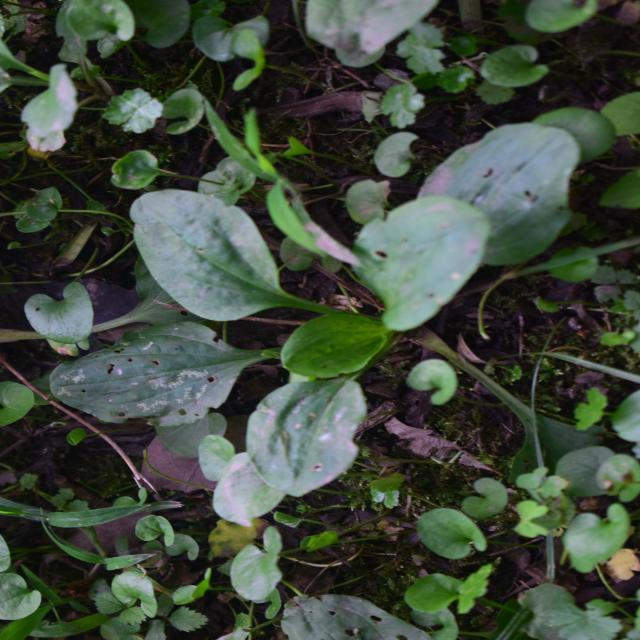plantain: (190, 81, 525, 609)
